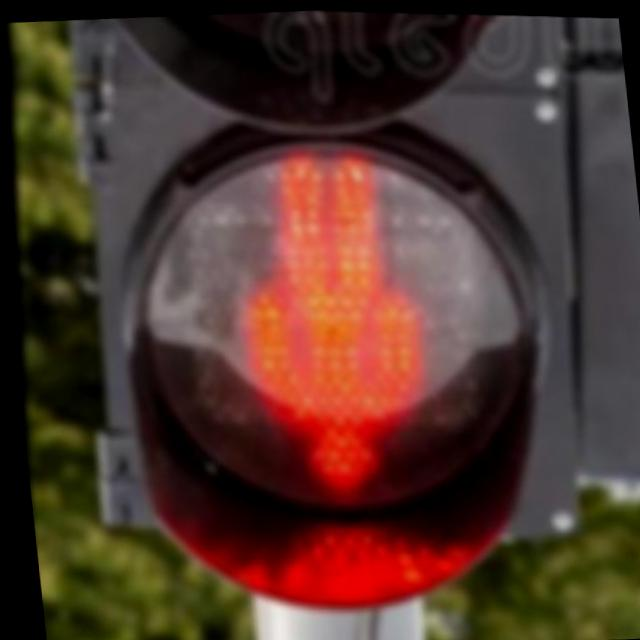red_light: (86, 106, 576, 554)
